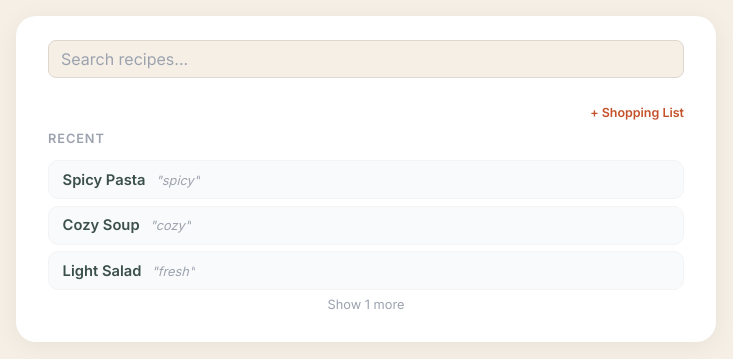
Test: RecipeHistory — search › filters by vibe text
Type "cozy" into the field with placeholder "Search recipes..." at (366, 59), box [48, 40, 684, 78]
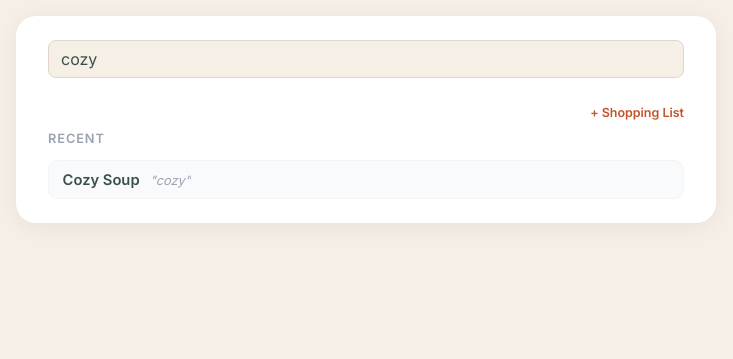
expect the text "Cozy Soup" is shown: met, box [63, 171, 140, 189]
expect the button "Spicy Pasta" is gone: met
